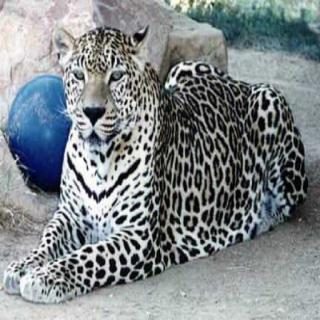Leopard: (41, 17, 300, 304)
